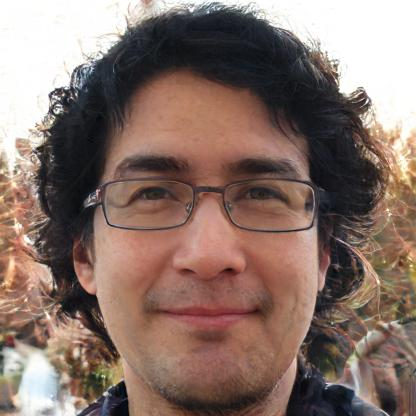glasses: (95, 173, 319, 237)
